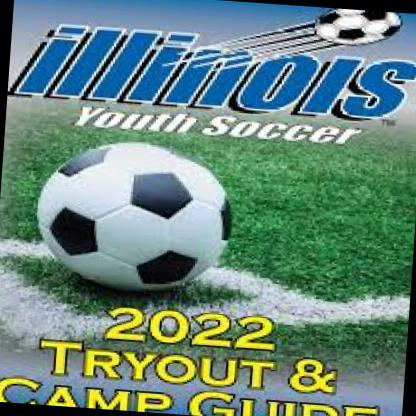ball: (32, 135, 238, 299)
